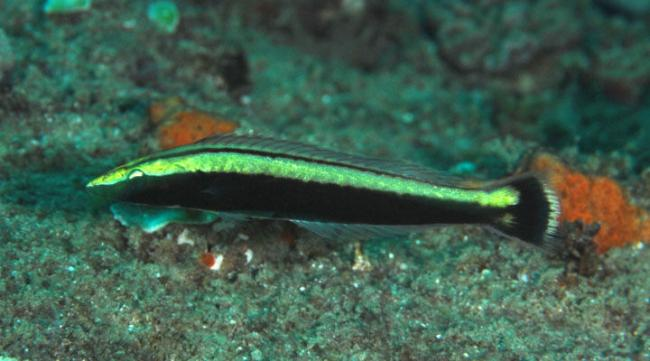fish: (84, 129, 561, 249)
